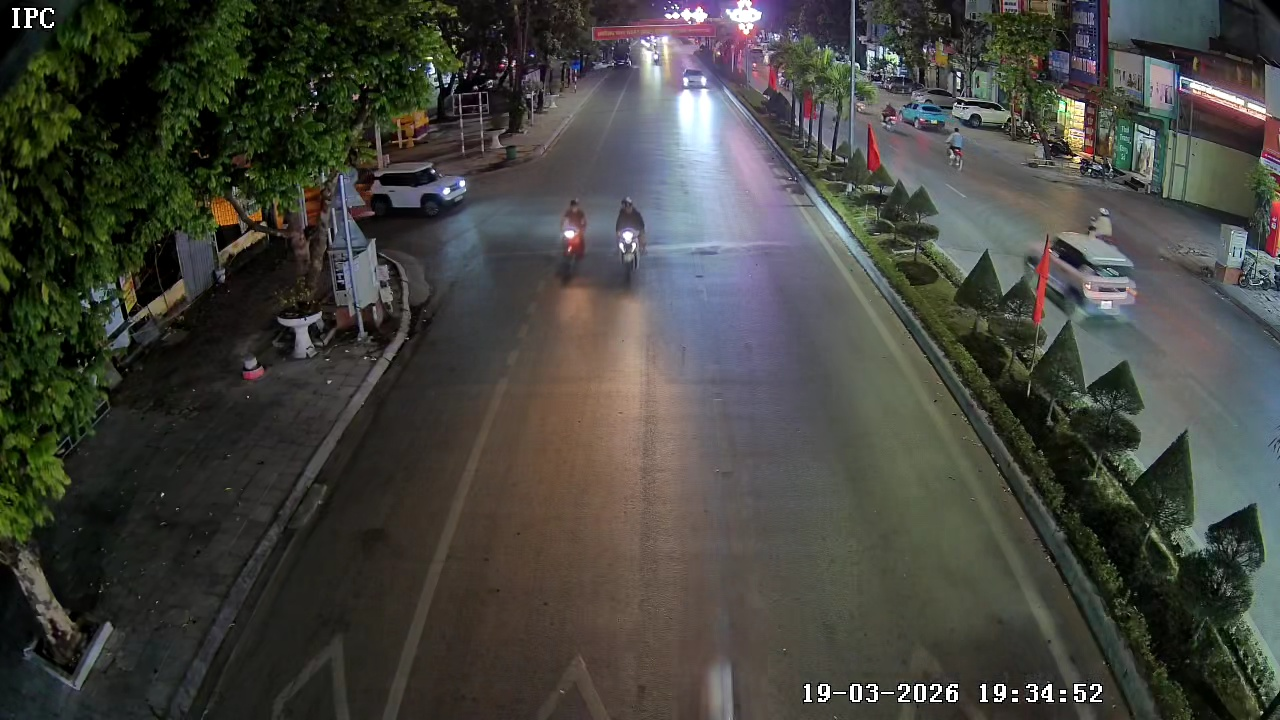car: (1041, 229, 1138, 315), (367, 163, 478, 224), (681, 68, 708, 95)
motorbike: (613, 195, 647, 283), (558, 197, 590, 271)
